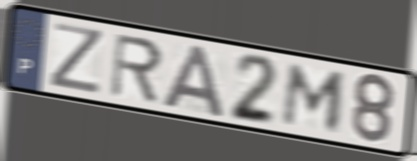2: (231, 53, 282, 128)
8: (351, 72, 396, 145)
A: (160, 42, 228, 120)
M: (279, 61, 350, 134)
R: (108, 31, 166, 106)
Z: (46, 20, 106, 97)
